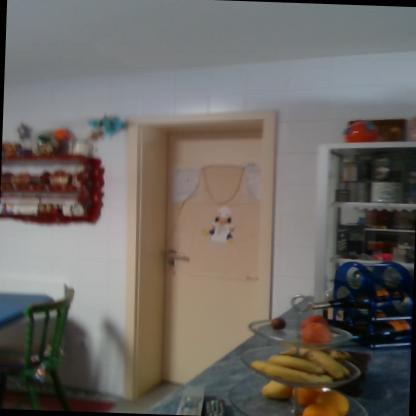closed: (117, 101, 294, 393)
